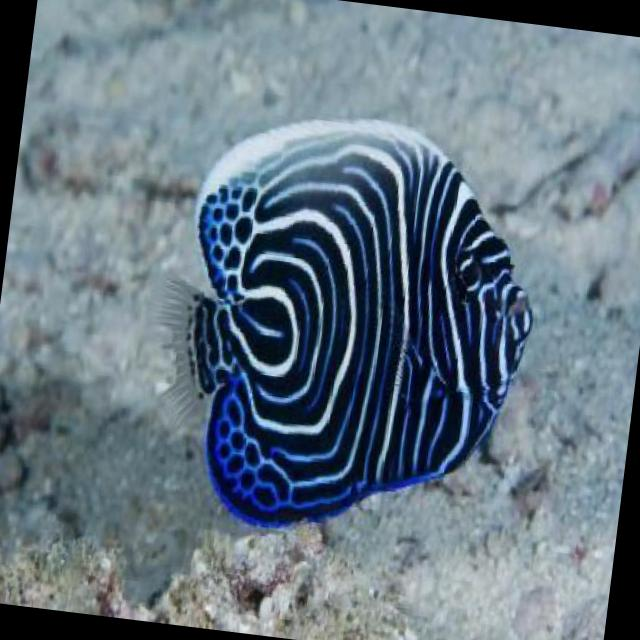AngelFish: (137, 96, 552, 562)
